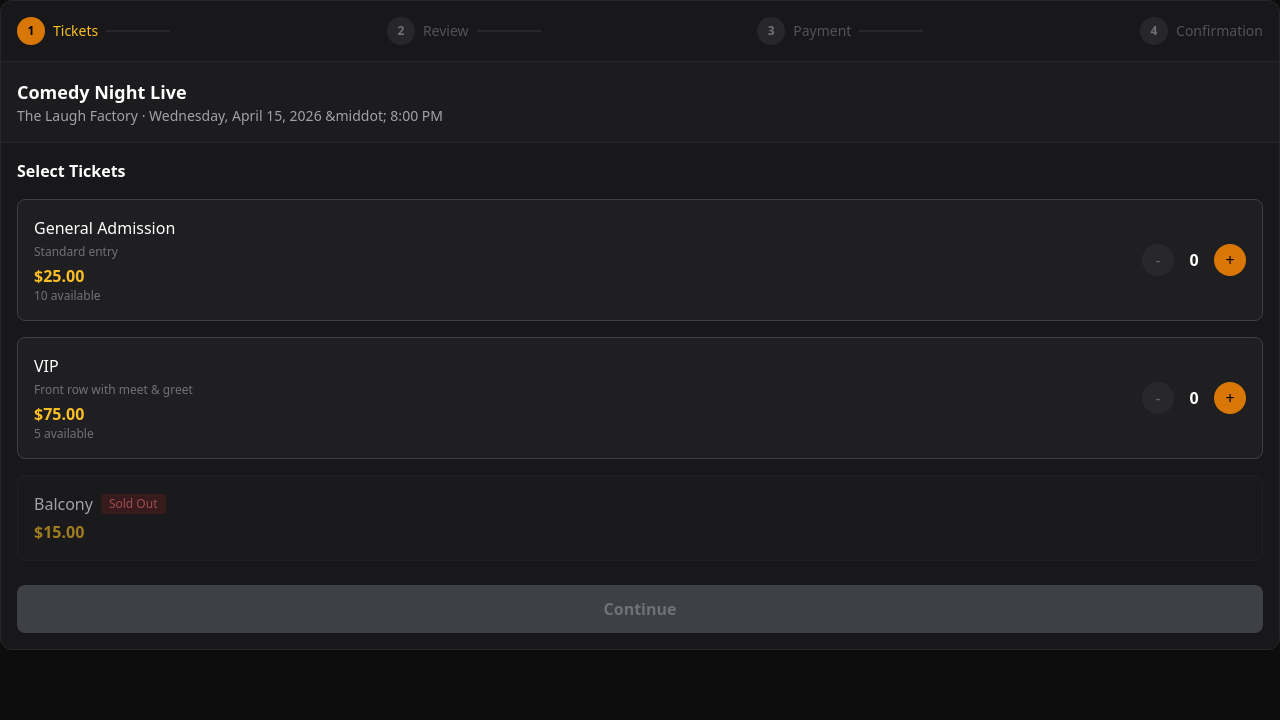
Test case: CheckoutFlow › decrements ticket quantity when - is clicked
The image size is (1280, 720).
Add 2 tickets
What coordinates should you click on to do the following:
click the button "+" in the row of "Standard entry"
I would click on:
 (1230, 260)
Its box is [1214, 244, 1246, 276].
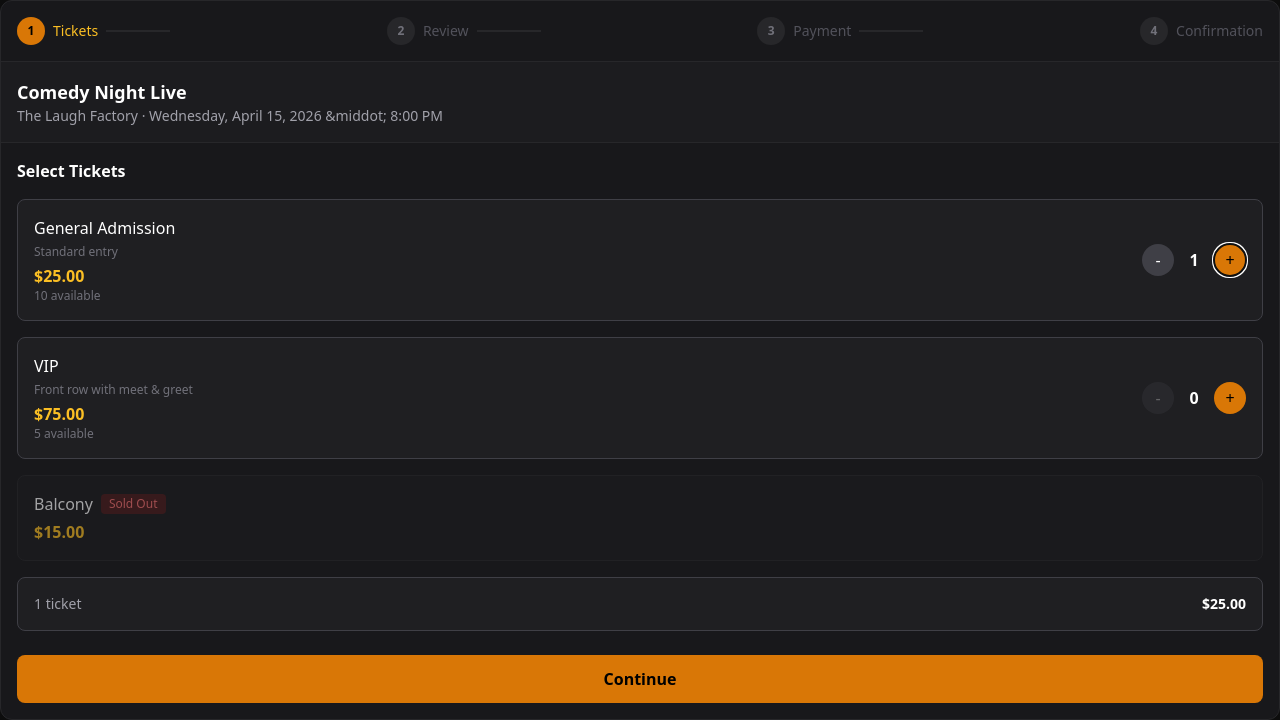
What coordinates should you click on to do the following:
click the button "+" in the row of "Standard entry"
I would click on:
 (1230, 260)
Its box is [1214, 244, 1246, 276].
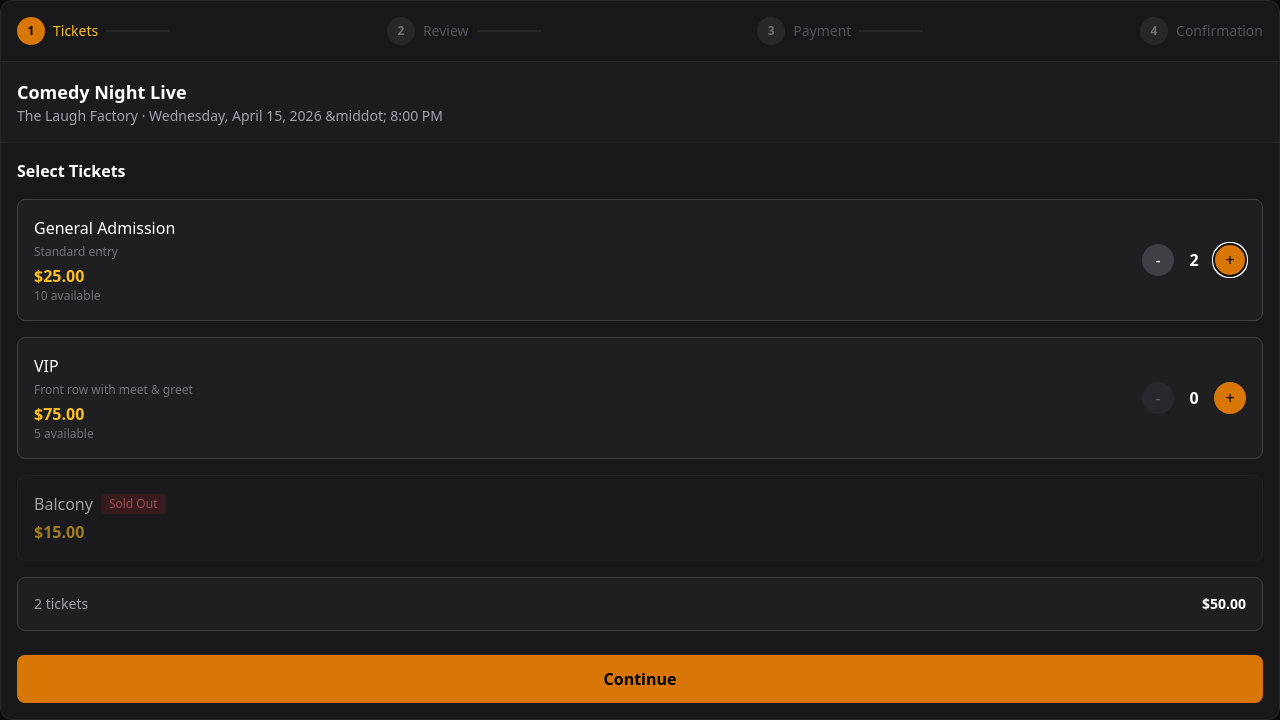
Result: the text "2 tickets" is shown at [34, 594, 88, 614]
Remove 1
What coordinates should you click on to do the following:
click the button "-" in the row of "Standard entry"
I would click on:
 (1158, 260)
Its box is [1142, 244, 1174, 276].
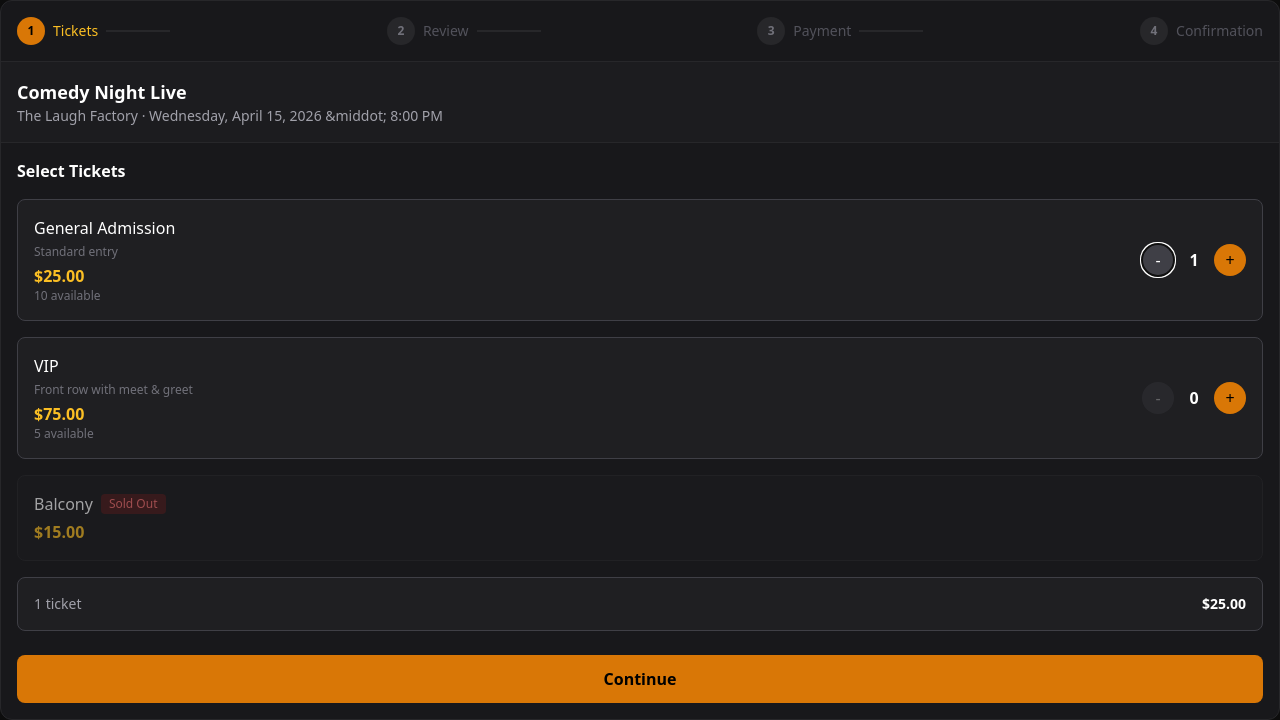
Result: the text "1 ticket" is shown at [34, 594, 82, 614]
